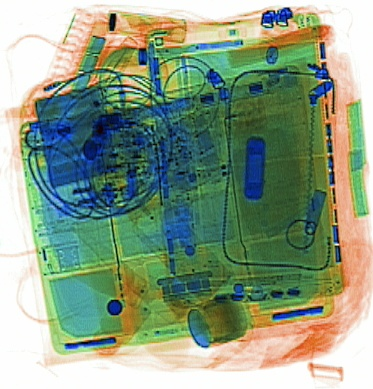powerbank: (33, 80, 120, 189)
